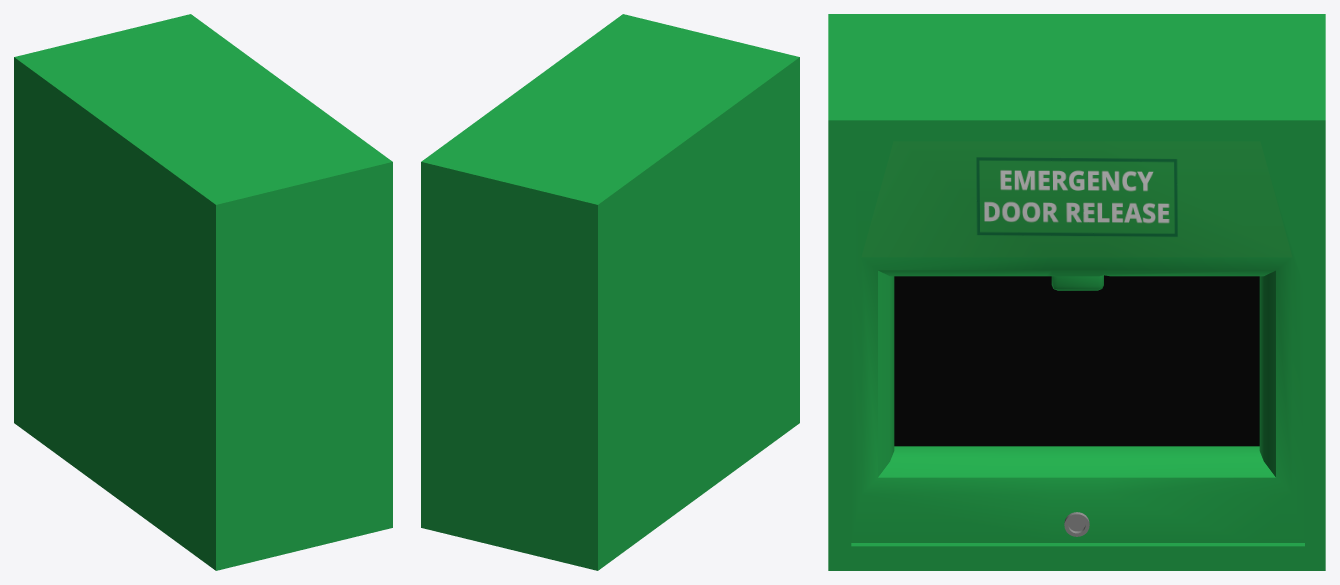
The model's file is Caja Boton.fbx.
3 views of the same model, side by side, from view 1: azimuth 30°, elevation 25°; view 2: azimuth 150°, elevation 25°; view 3: azimuth 270°, elevation 25° (orthographic). The views are drawn at different scales.
Parts seen in each view (by area): view 1: caja de emergencia puertas; view 2: caja de emergencia puertas; view 3: caja de emergencia puertas.
Boxes of the visible parts, <box> form: caja de emergencia puertas: <box>14,14,392,570</box>; caja de emergencia puertas: <box>421,14,799,570</box>; caja de emergencia puertas: <box>828,14,1325,570</box>.
Size of the model in its own units: 607 by 1201 by 1201.
4 materials, 2 textured.
